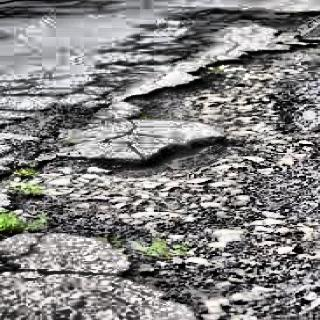pothole: (10, 33, 319, 320)
